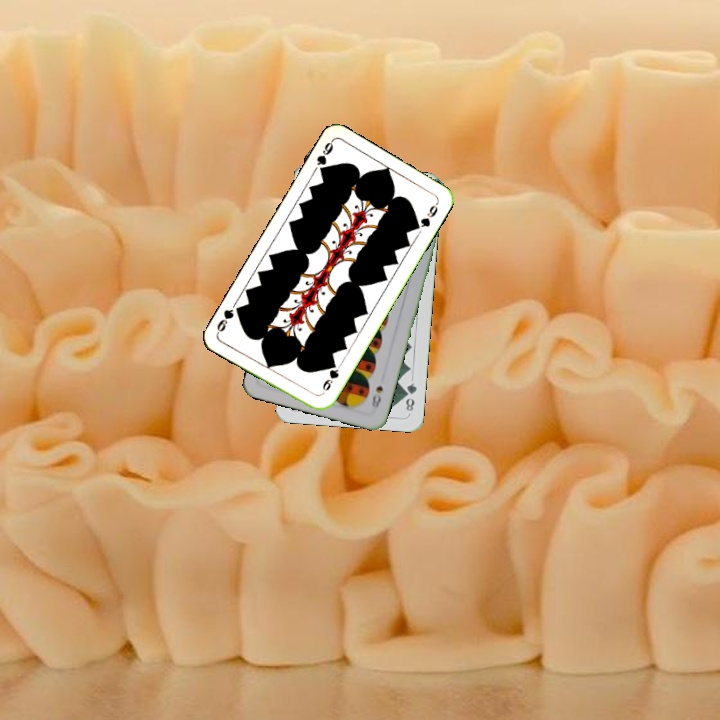G8: (401, 379, 419, 414)
G9: (312, 136, 336, 177), (317, 359, 341, 397)
S8: (367, 382, 386, 413)
